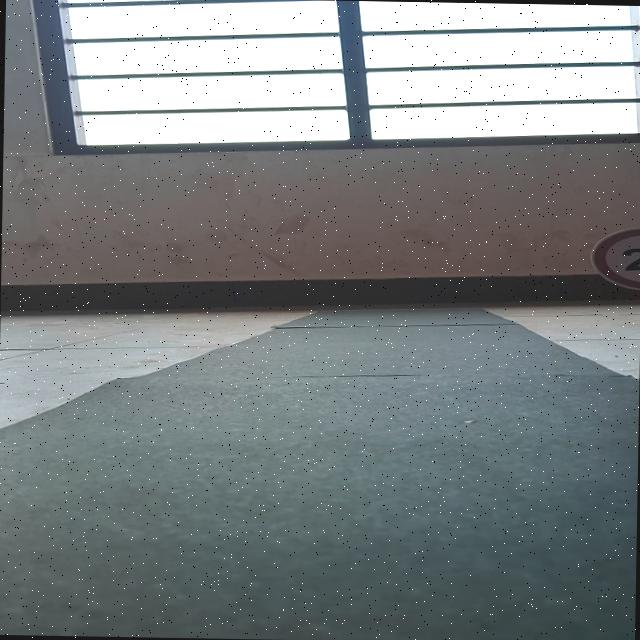Speed20: (586, 221, 640, 295)
